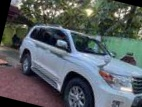car: (8, 19, 142, 107)
